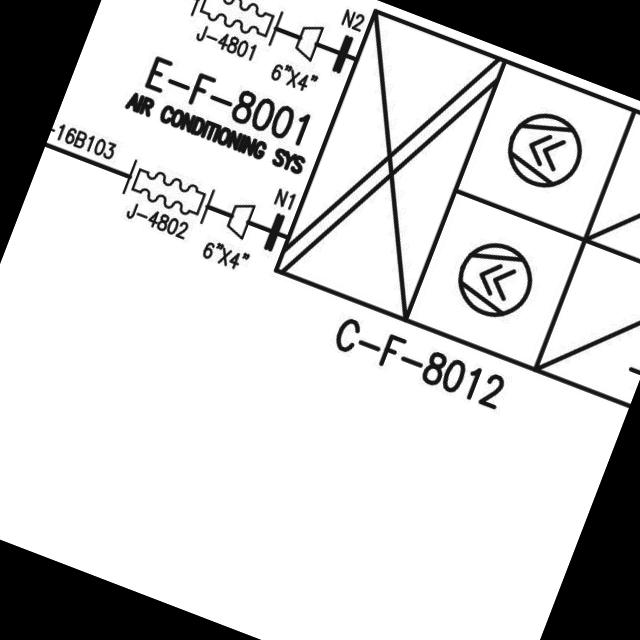C: (492, 100, 592, 198), (444, 229, 543, 326)
EJ: (116, 152, 220, 226), (182, 0, 289, 48)
SP: (288, 15, 331, 64), (220, 194, 260, 242)
